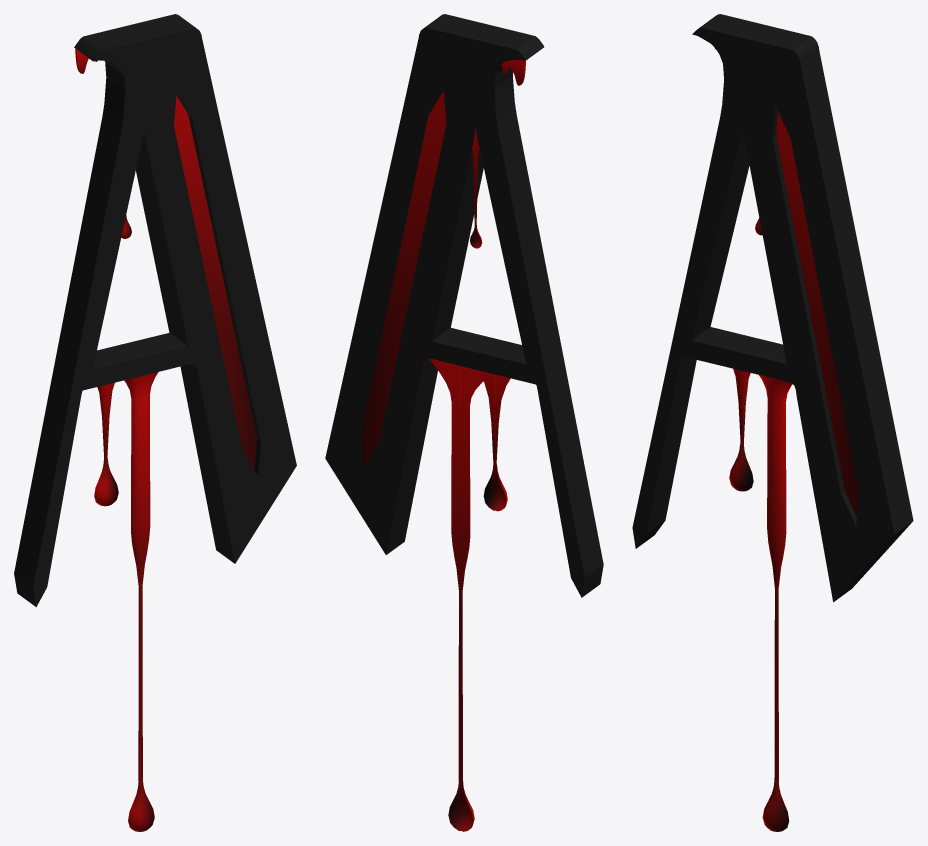
3 views of the same model, side by side, from view 1: azimuth 30°, elevation 25°; view 2: azimuth 150°, elevation 25°; view 3: azimuth 330°, elevation 25° (orthographic).
Visible parts, largest first — view 1: A, A_Element, Blood_043, Blood_050; view 2: A, A_Element, Blood_043, Blood_050, Blood_048; view 3: A, Blood_043, A_Element, Blood_050.
Part boxes in pixels (left/top/right/bottom): A: left=14, top=14, right=296, bottom=607; A_Element: left=174, top=95, right=256, bottom=469; Blood_043: left=124, top=372, right=158, bottom=831; Blood_050: left=94, top=382, right=118, bottom=506; A: left=325, top=14, right=603, bottom=597; A_Element: left=360, top=91, right=446, bottom=468; Blood_043: left=429, top=358, right=483, bottom=831; Blood_050: left=479, top=370, right=510, bottom=511; Blood_048: left=470, top=128, right=482, bottom=248; A: left=632, top=14, right=913, bottom=602; Blood_043: left=759, top=375, right=792, bottom=831; A_Element: left=776, top=112, right=858, bottom=516; Blood_050: left=729, top=368, right=753, bottom=491.
Size of the model in its own units: 40 by 117 by 5.01.
2 materials, 1 textured.
